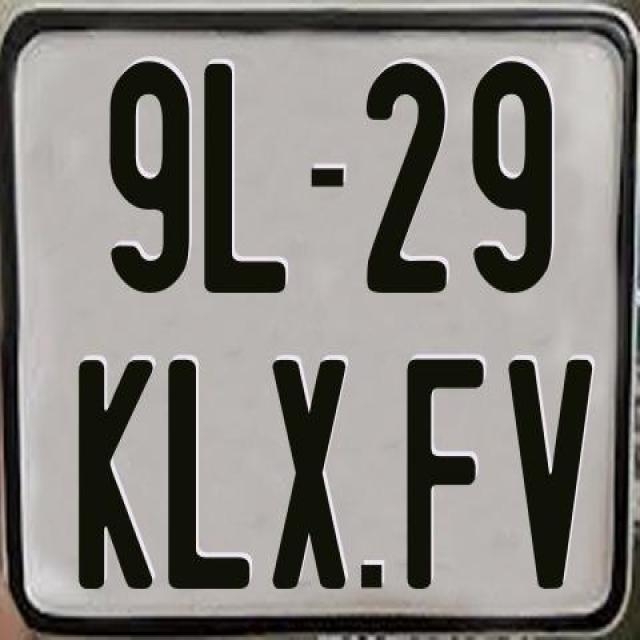2: (366, 61, 446, 293)
9: (106, 56, 192, 291), (468, 61, 550, 296)
F: (402, 356, 487, 588)
K: (74, 357, 154, 592)
L: (165, 356, 255, 594), (203, 63, 289, 294)
V: (506, 358, 594, 589)
X: (270, 358, 346, 596)
